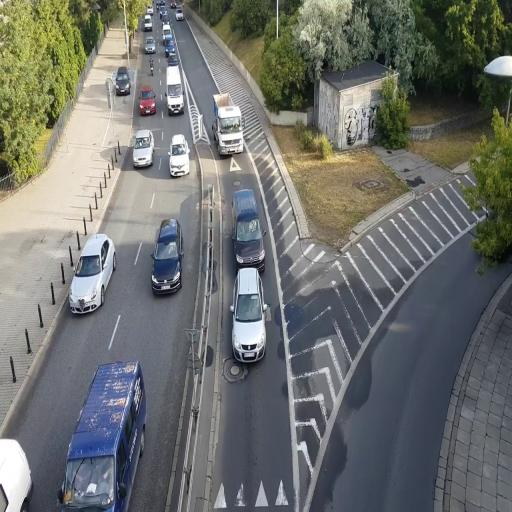vehicle: (59, 359, 147, 509), (70, 233, 116, 316), (230, 267, 268, 364), (232, 188, 266, 270), (232, 189, 266, 270), (151, 216, 183, 296), (0, 437, 32, 511), (212, 90, 244, 156), (168, 134, 190, 177), (133, 130, 154, 169), (138, 87, 157, 116), (114, 68, 131, 95), (144, 37, 155, 53)
